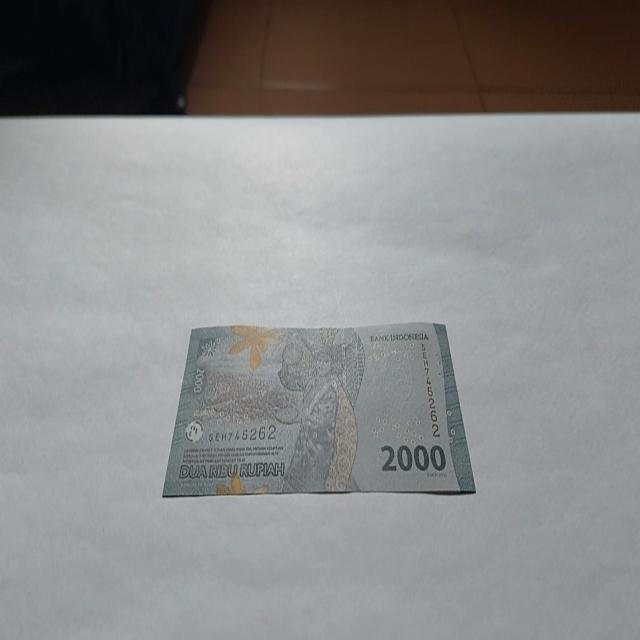dua ribu rupiah: (161, 321, 476, 498)
